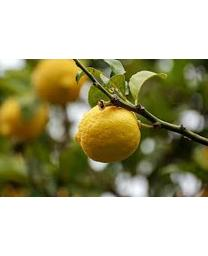lemon: (75, 104, 143, 163)
